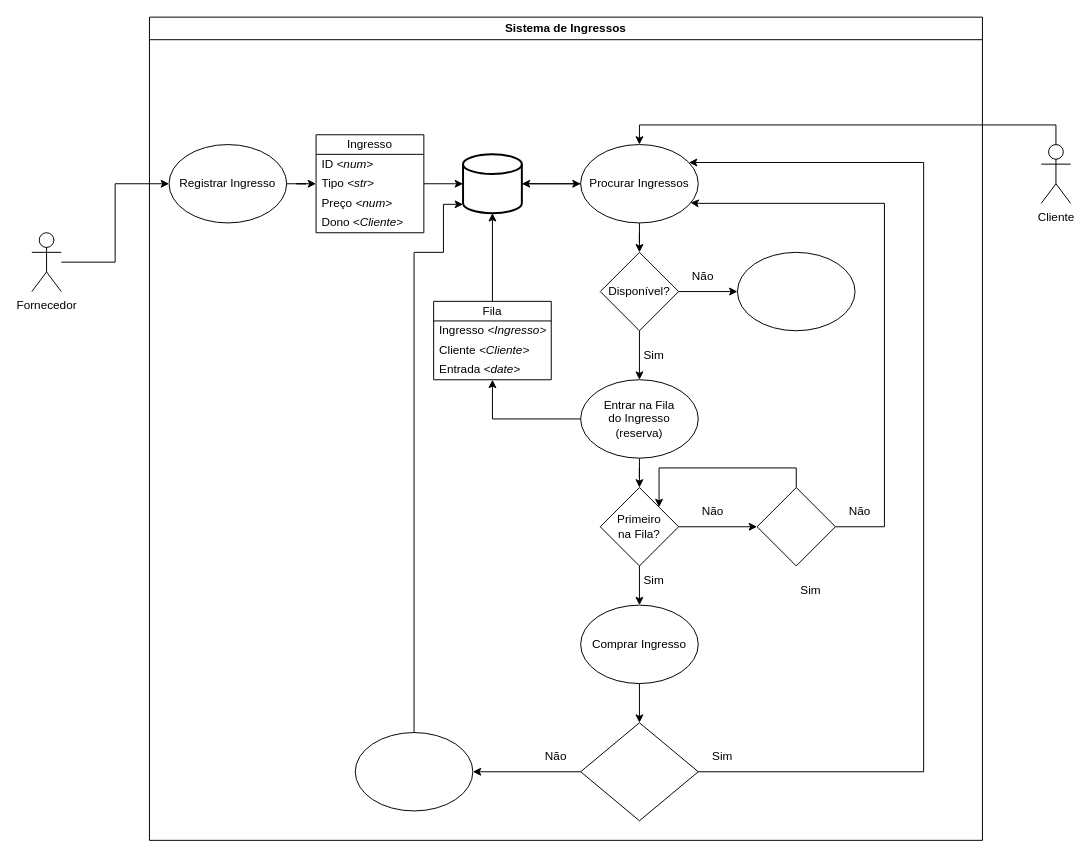
This 1091x858 diagram has some shape labels left out. The shapes that lost their labels are listed below. From the top down, each one's centre as x and y in pixels, then its label:
point 492,183: DB
point 795,291: Alertar Cliente quando disponível
point 795,526: Aguardar fila?
point 413,771: Atualizar Dono do Ingresso
point 639,771: Expirou o tempo na fila?
